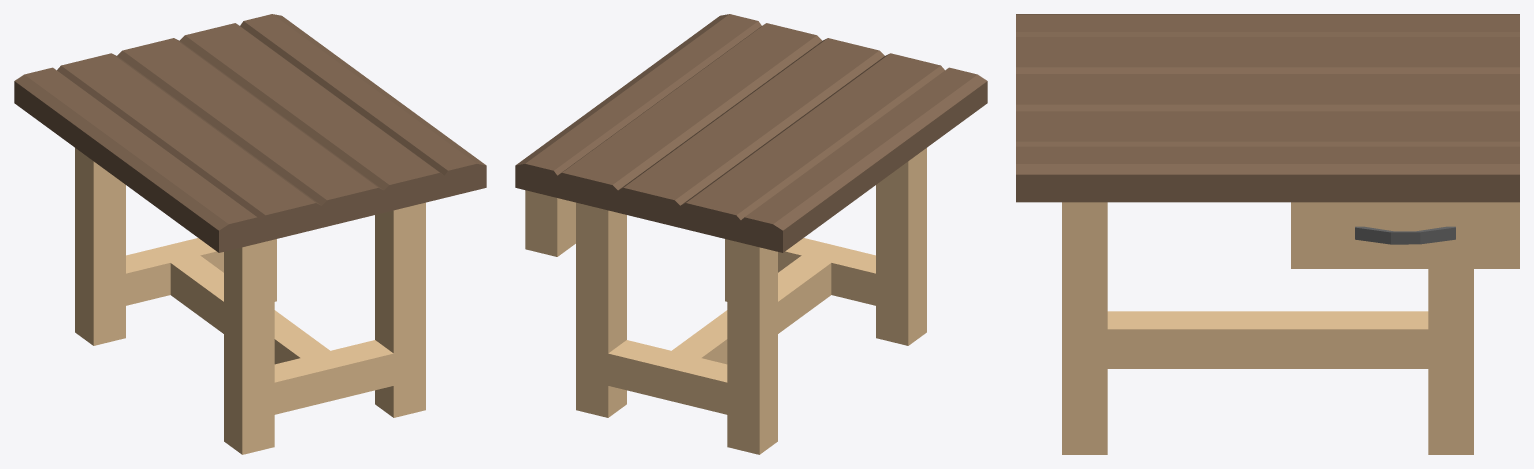
The model's file is Werkbank.fbx.
3 renders of one model, left to right at view 1: azimuth 30°, elevation 25°; view 2: azimuth 150°, elevation 25°; view 3: azimuth 270°, elevation 25°, orthographic. The views are drawn at different scales.
Visible parts, largest first — view 1: Cube; view 2: Cube; view 3: Cube.
Boxes of the visible parts, bbox=[...] form: Cube: bbox=[14, 14, 486, 454]; Cube: bbox=[515, 14, 987, 454]; Cube: bbox=[1016, 14, 1519, 454].
Size of the model in its own units: 77.68 by 69.96 by 103.
